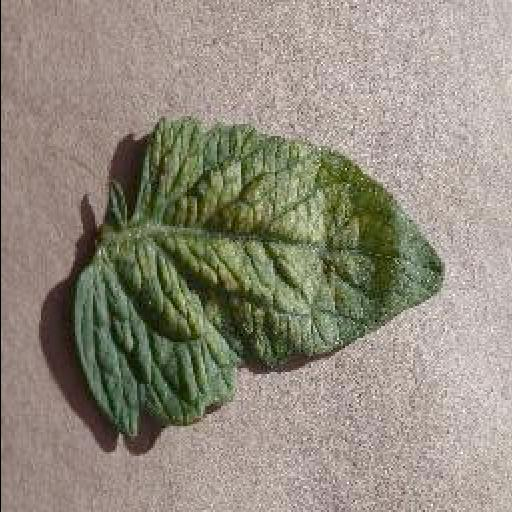disease_tomato: (73, 120, 447, 438)
